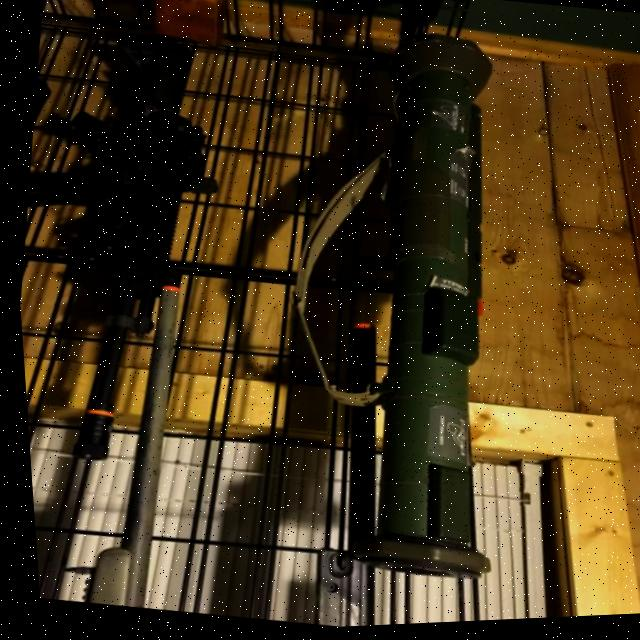rocket: (235, 0, 604, 620)
